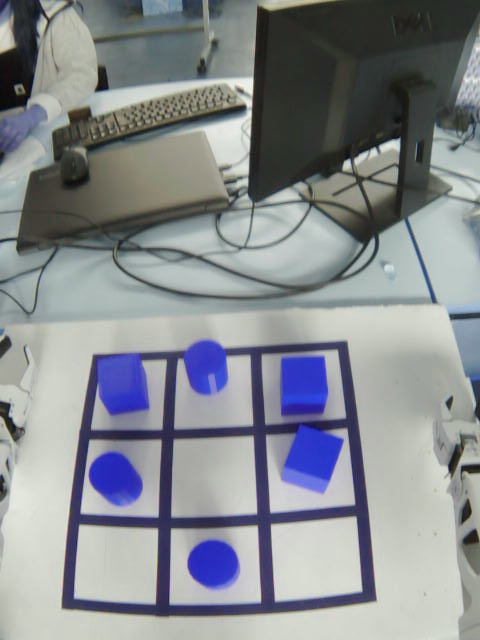cube: (273, 419, 349, 500), (88, 350, 159, 420), (270, 349, 337, 423)
cylinder: (82, 444, 152, 512), (175, 334, 237, 400), (180, 534, 247, 595)
empty: (265, 513, 369, 606), (166, 430, 262, 523), (70, 517, 165, 610)
